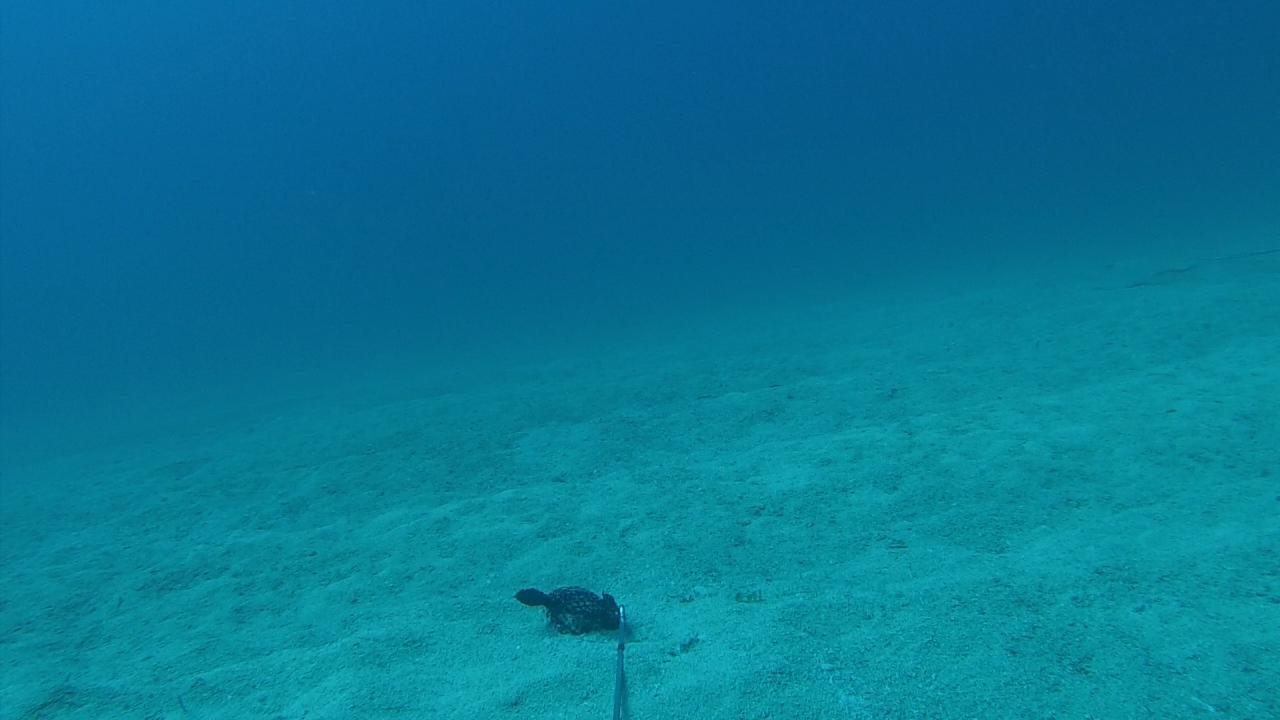dasyatis: (1090, 244, 1278, 292)
